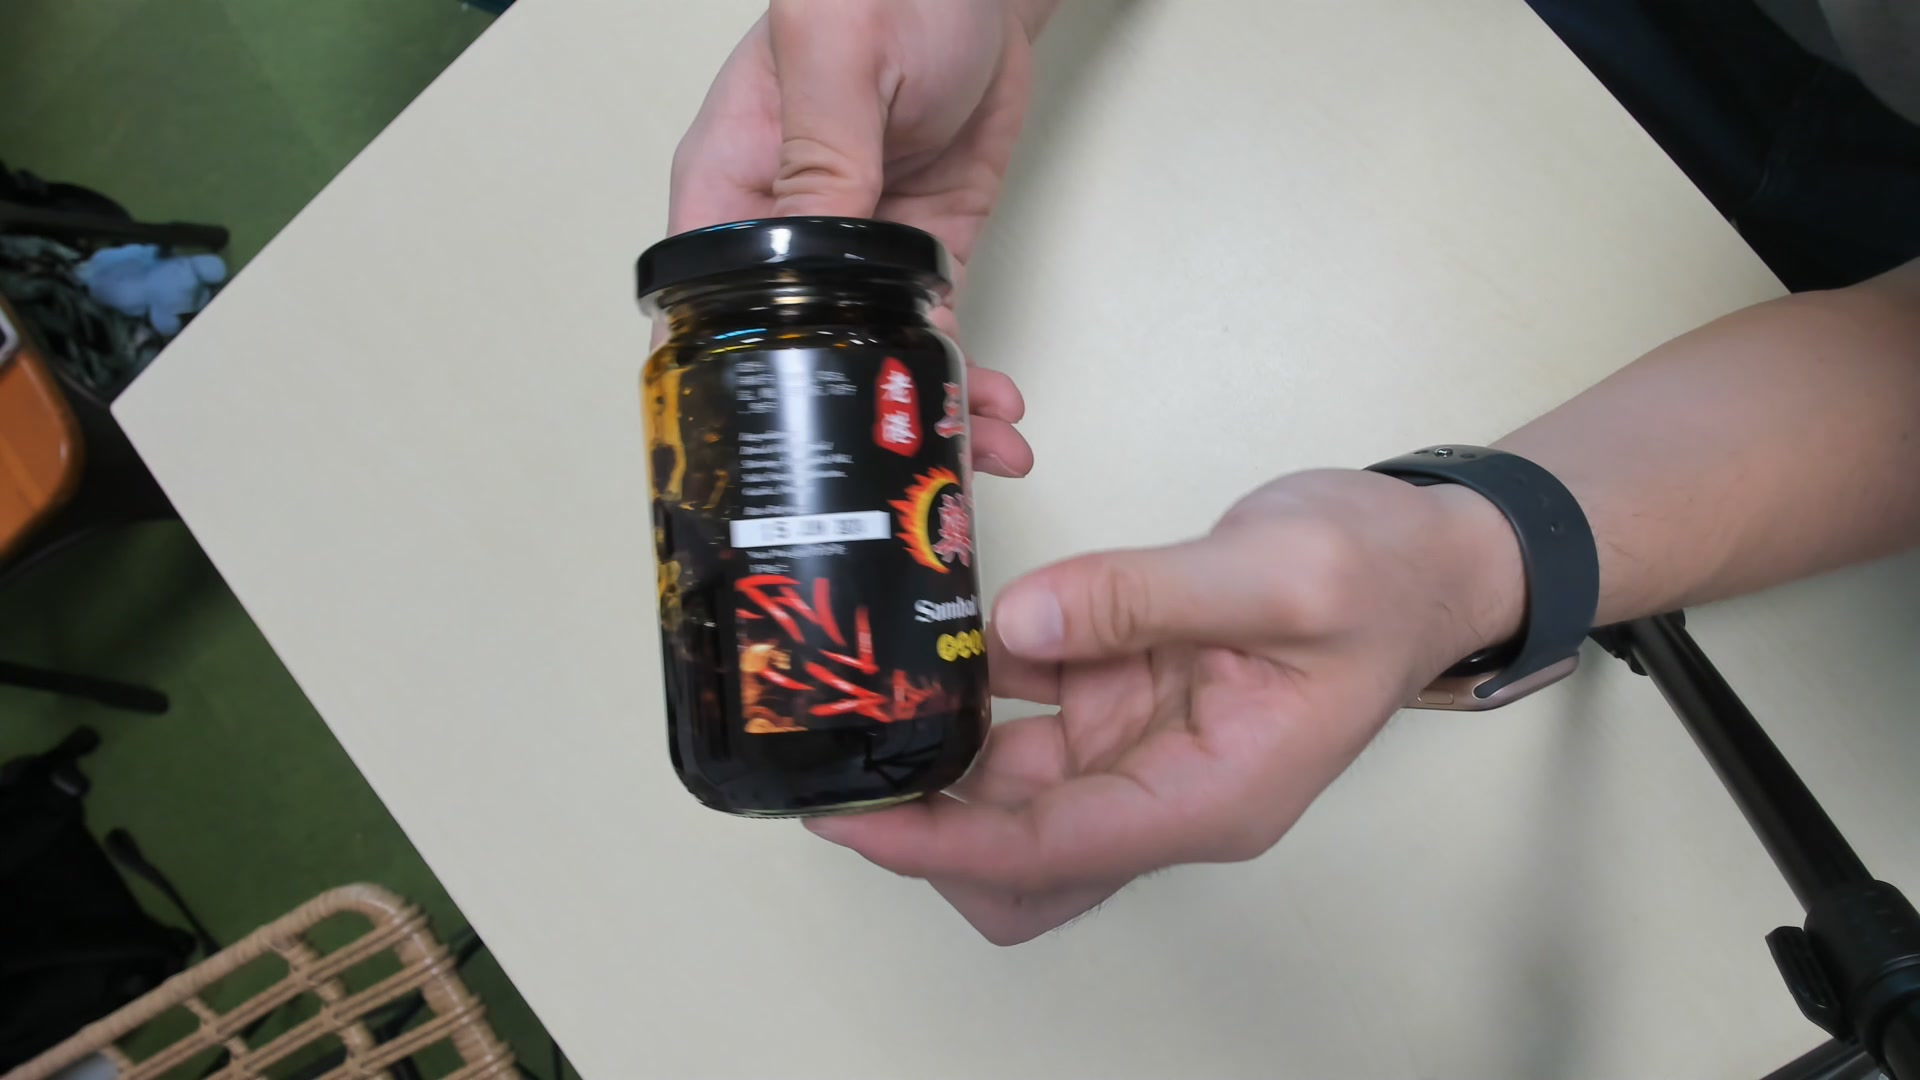OtherSauceDressing_300-399g_NonHalal_NonHealthy: (626, 219, 994, 824)
